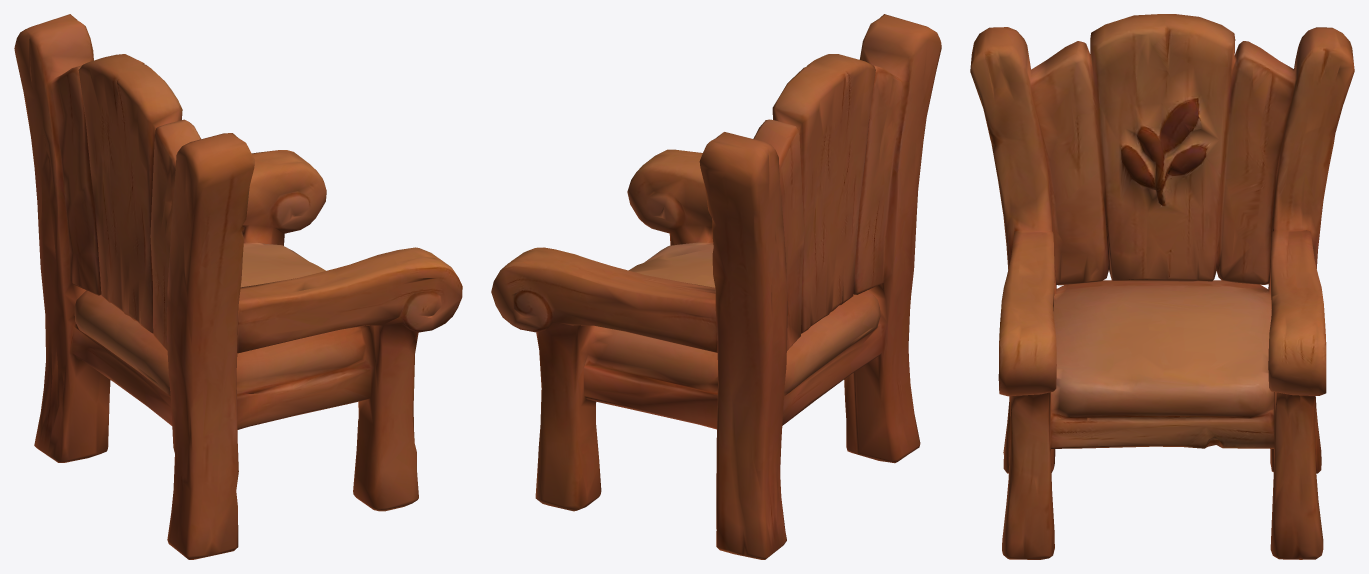
File: stuhl_wald_a.glb
3 views of the same model, side by side, from view 1: azimuth 30°, elevation 25°; view 2: azimuth 150°, elevation 25°; view 3: azimuth 270°, elevation 25° (orthographic).
Visible parts, largest first — view 1: tripo_node_3f446508-7ebe-4b77-83ea-3b7dd9d45fb6; view 2: tripo_node_3f446508-7ebe-4b77-83ea-3b7dd9d45fb6; view 3: tripo_node_3f446508-7ebe-4b77-83ea-3b7dd9d45fb6.
Boxes of the visible parts, bbox=[...] form: tripo_node_3f446508-7ebe-4b77-83ea-3b7dd9d45fb6: bbox=[14, 14, 462, 559]; tripo_node_3f446508-7ebe-4b77-83ea-3b7dd9d45fb6: bbox=[491, 14, 941, 559]; tripo_node_3f446508-7ebe-4b77-83ea-3b7dd9d45fb6: bbox=[970, 14, 1354, 559].
Size of the model in its own units: 0.6709 by 0.9997 by 0.7873.
1 material, 1 textured.
